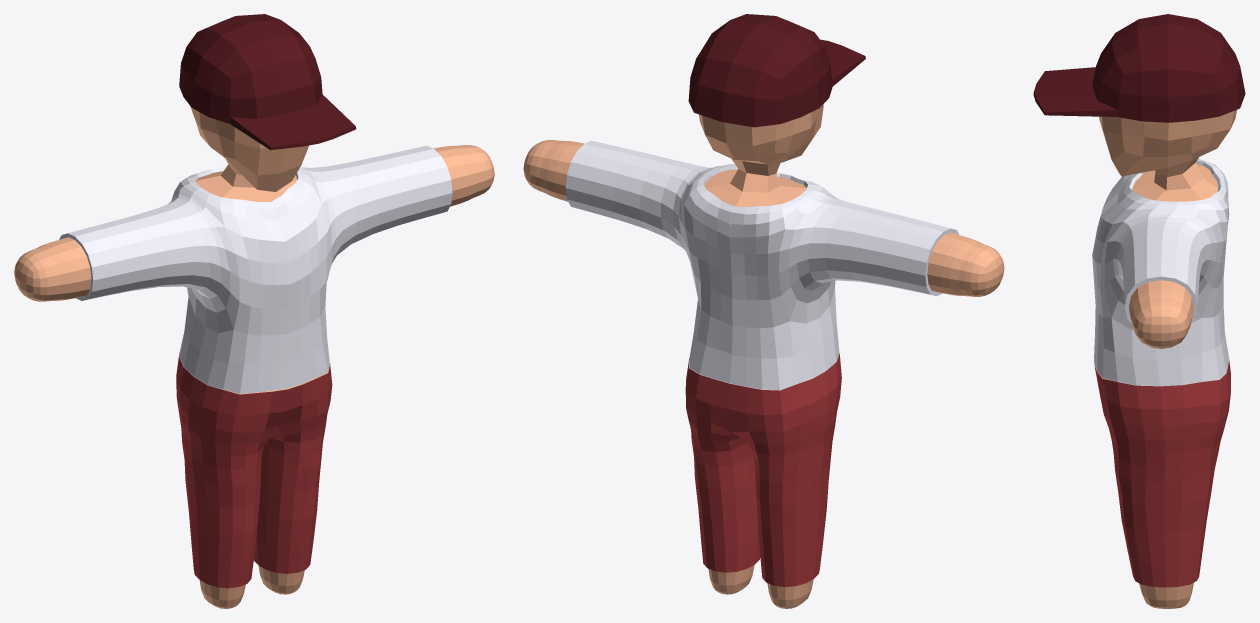
The model's file is Mod9.glb.
3 views of the same model, side by side, from view 1: azimuth 30°, elevation 25°; view 2: azimuth 150°, elevation 25°; view 3: azimuth 270°, elevation 25° (orthographic).
Parts seen in each view (by area): view 1: Modelo 1a; view 2: Modelo 1a; view 3: Modelo 1a.
Part boxes in pixels (<box>): Modelo 1a: <box>14,14,494,608</box>; Modelo 1a: <box>523,14,1004,608</box>; Modelo 1a: <box>1033,14,1245,608</box>.
Bounding box in the file's own units: 7.96 × 9.27 × 3.15.
